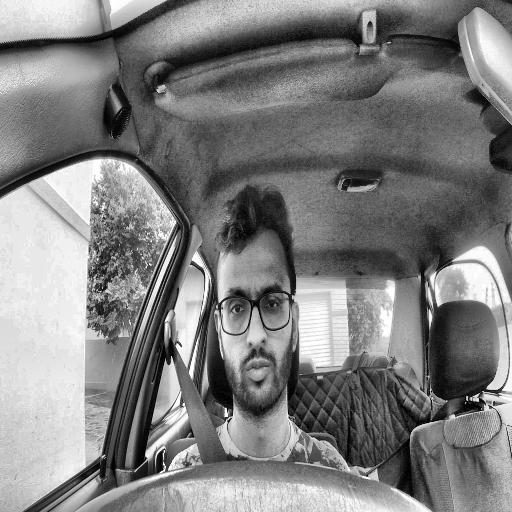awake: (212, 187, 298, 412)
